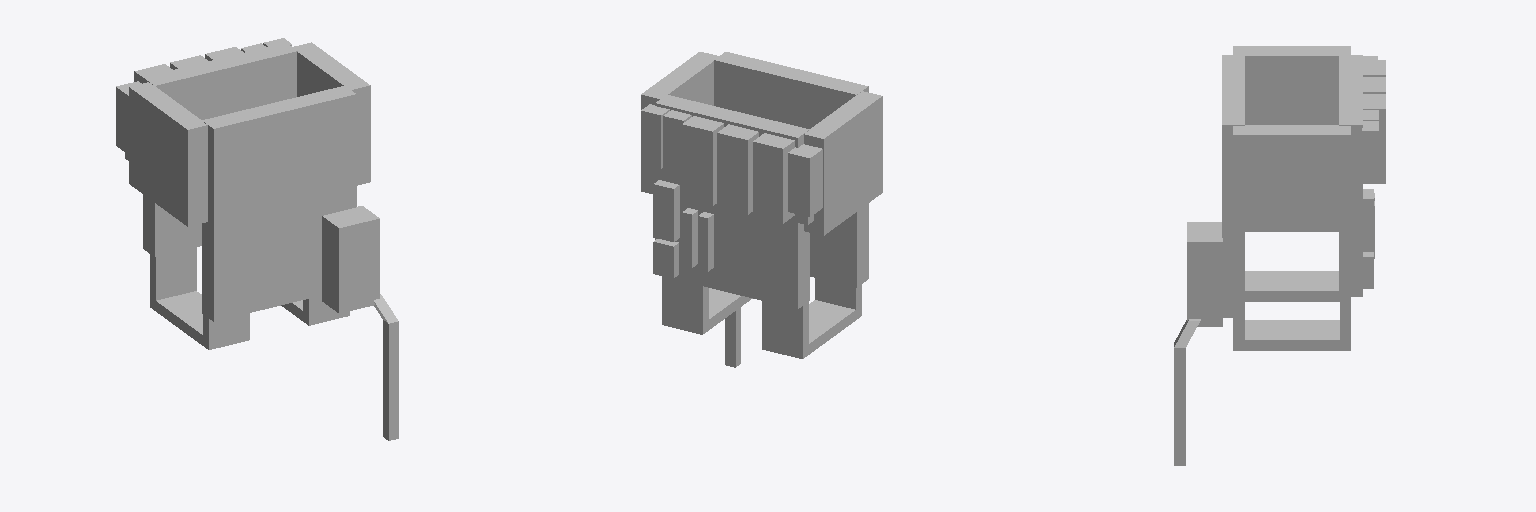
The model's file is tactical_vest_lv2.obj.
3 views of the same model, side by side, from view 1: azimuth 30°, elevation 25°; view 2: azimuth 150°, elevation 25°; view 3: azimuth 270°, elevation 25° (orthographic).
Visible parts, largest first — view 1: armorModel; view 2: armorModel; view 3: armorModel.
Part boxes in pixels (bbox=[...]): armorModel: bbox=[116, 38, 398, 440]; armorModel: bbox=[641, 52, 882, 367]; armorModel: bbox=[1174, 46, 1385, 465].
Size of the model in its own units: 10.03 by 17.38 by 10.08.